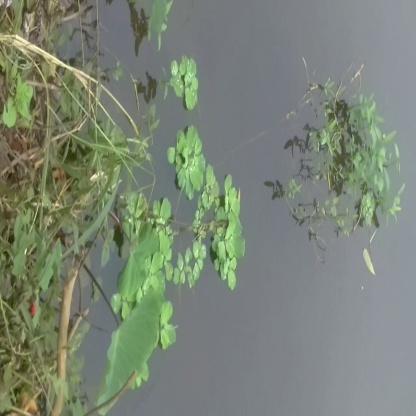leaf: (105, 296, 175, 408)
